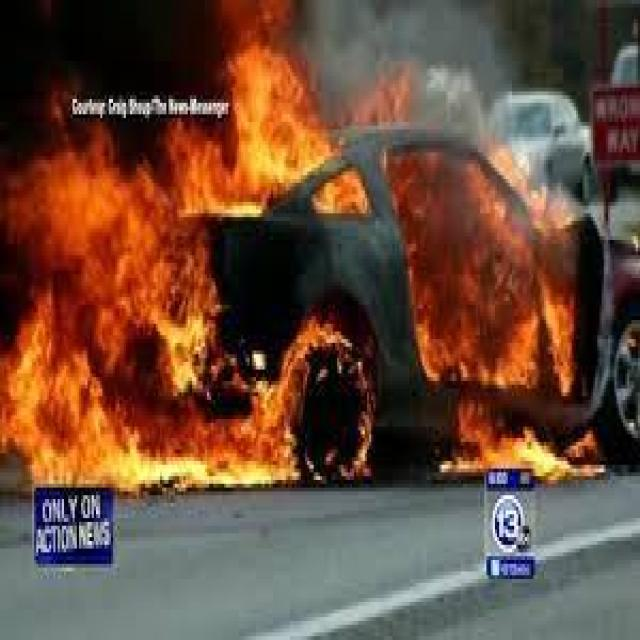fire: (0, 21, 378, 493), (382, 137, 610, 489)
